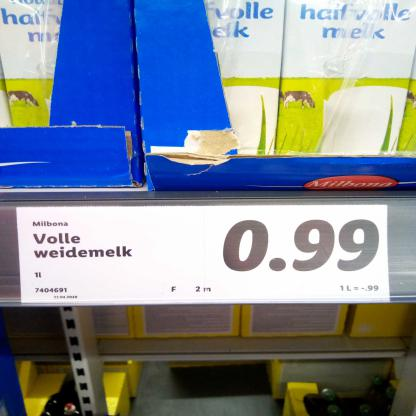prtg: (17, 206, 391, 305)
